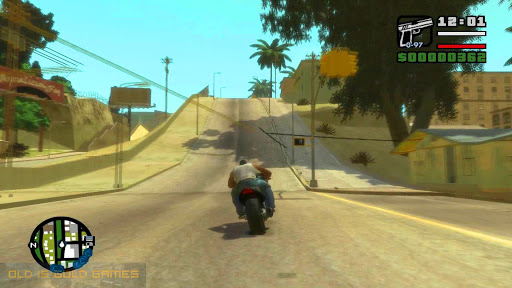bike: (227, 167, 276, 241)
